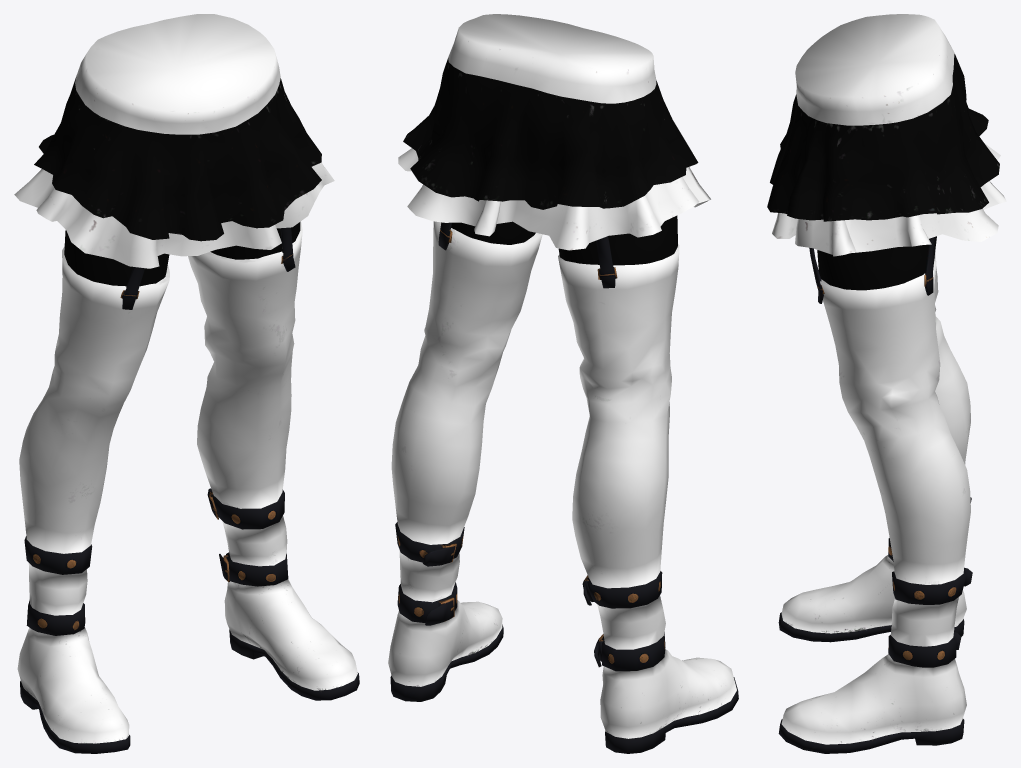
Rendered from SurvivorMale_Legs_Skirt_ShortSkirtThighHighs_LOD0.glb.
3 views of the same model, side by side, from view 1: azimuth 30°, elevation 25°; view 2: azimuth 150°, elevation 25°; view 3: azimuth 270°, elevation 25° (orthographic). The views are drawn at different scales.
Visible parts, largest first — view 1: Hoodie; view 2: Hoodie; view 3: Hoodie.
Boxes of the visible parts, x1,y1,x2,y2 form: Hoodie: (14, 14, 359, 753); Hoodie: (388, 14, 738, 753); Hoodie: (767, 14, 1006, 753).
Size of the model in its own units: 0.5357 by 1.13 by 0.3813.
Materials: 1 (1 with a texture image).
